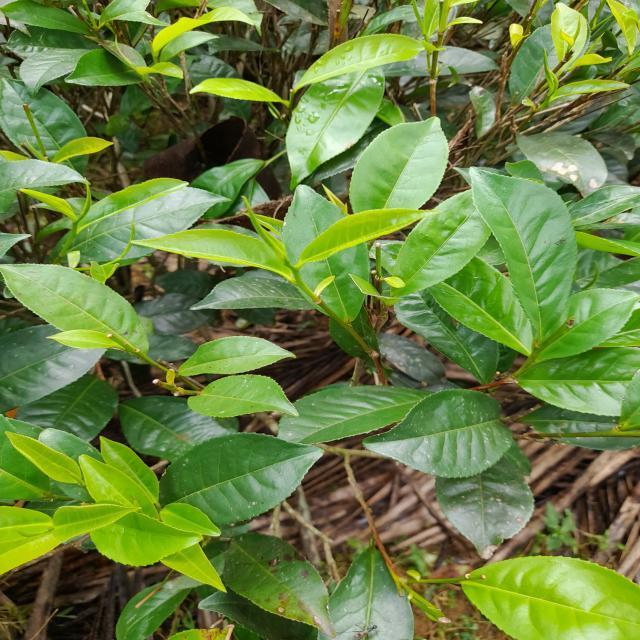Stem: (296, 280, 303, 285), (73, 224, 76, 233)
